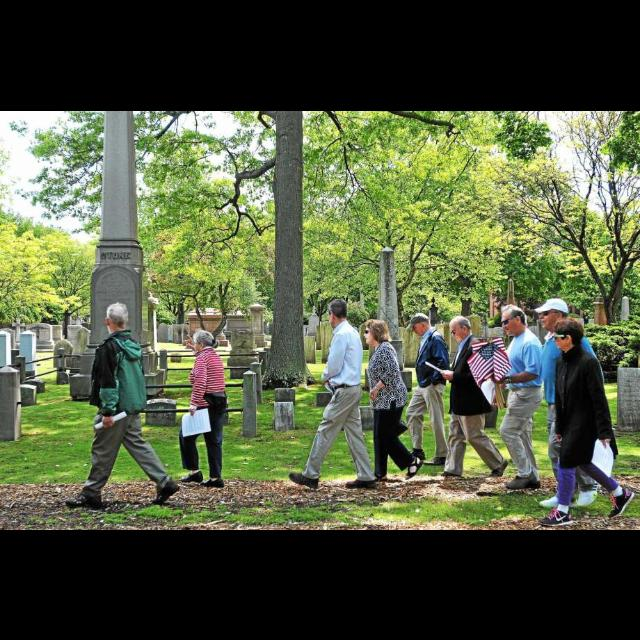head: (552, 318, 586, 352), (538, 298, 568, 332), (501, 306, 527, 336), (448, 316, 472, 342), (106, 303, 130, 329), (328, 298, 348, 328), (362, 320, 386, 344), (194, 330, 216, 352), (412, 315, 431, 337)
person: (64, 300, 180, 510), (536, 316, 636, 528), (289, 298, 379, 490), (533, 297, 607, 509), (465, 303, 545, 491), (423, 314, 511, 480), (362, 316, 424, 484), (177, 327, 229, 489), (402, 313, 456, 467)
